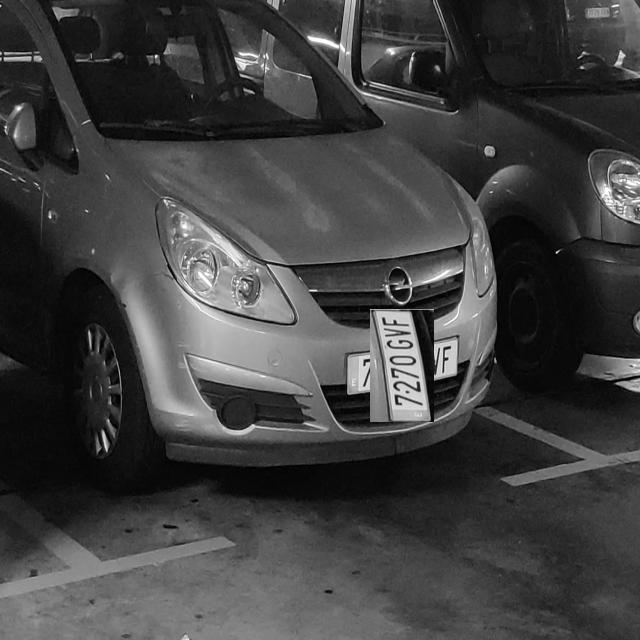License-Plate: (358, 322, 447, 410)
